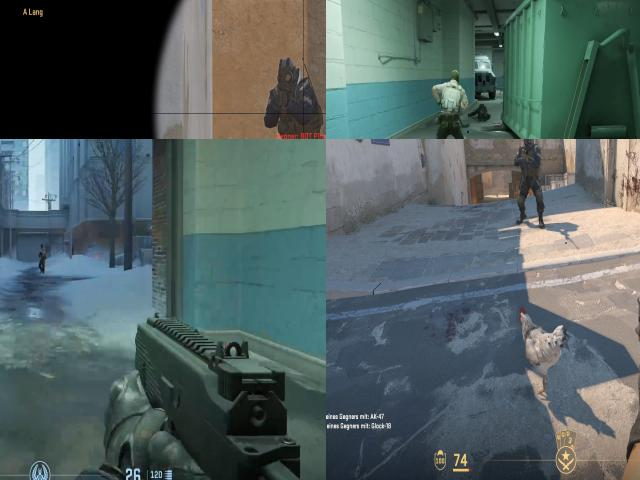CT: (274, 46, 320, 139), (520, 139, 541, 214)
CT-Head: (278, 59, 298, 91), (522, 139, 533, 146)
Dead: (471, 100, 493, 126)
T: (432, 66, 468, 128), (38, 240, 49, 267)
T-Head: (444, 65, 463, 89), (40, 244, 46, 252)
